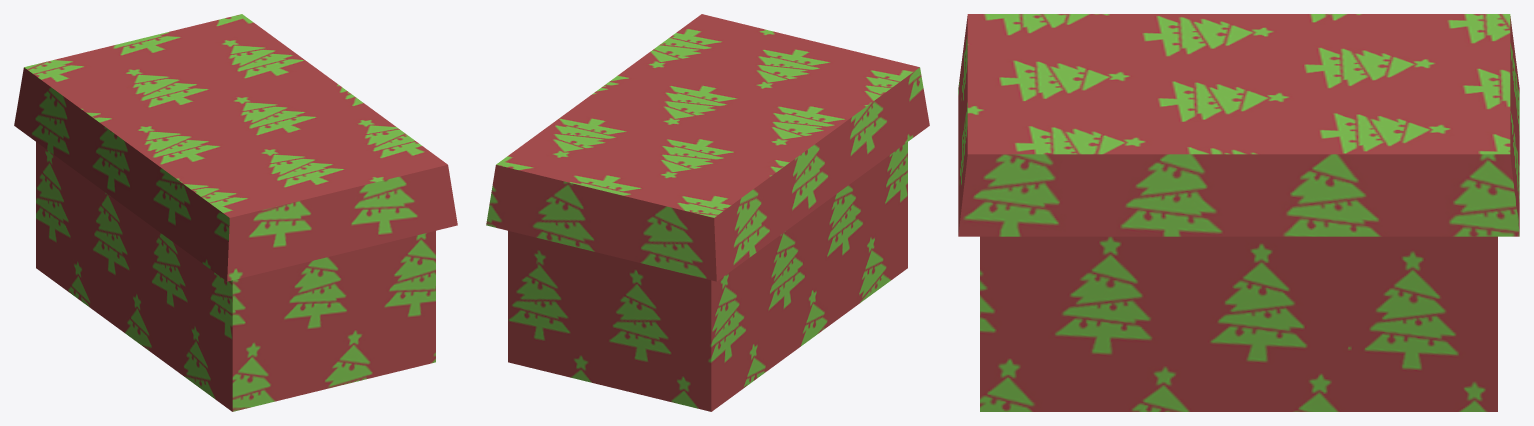
Rendered from M_Gift_12.FBX.
3 views of the same model, side by side, from view 1: azimuth 30°, elevation 25°; view 2: azimuth 150°, elevation 25°; view 3: azimuth 270°, elevation 25° (orthographic). The views are drawn at different scales.
Visible parts, largest first — view 1: Object012; view 2: Object012; view 3: Object012.
Part boxes in pixels (left/top/right/bottom): Object012: left=14, top=14, right=457, bottom=411; Object012: left=486, top=14, right=929, bottom=411; Object012: left=958, top=14, right=1519, bottom=411.
Bounding box in the file's own units: 50.39 × 41.59 × 80.62.
1 material, 1 textured.
